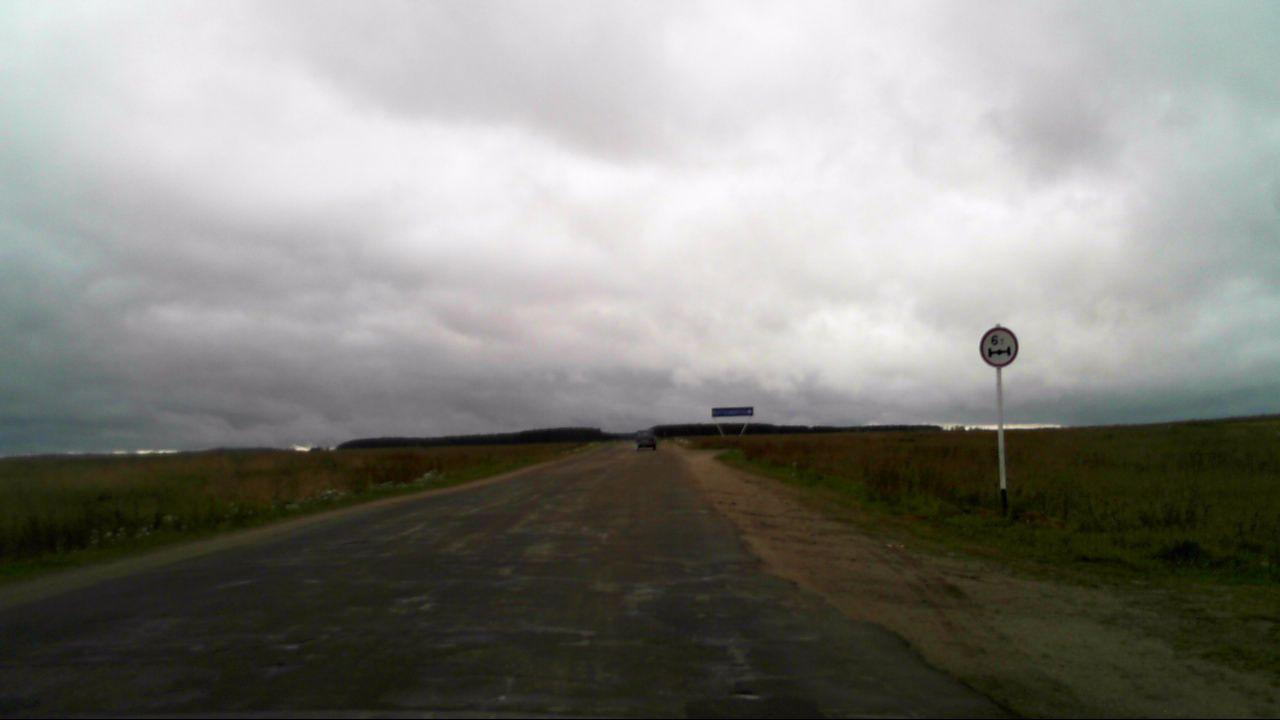3_12: (978, 326, 1021, 368)
